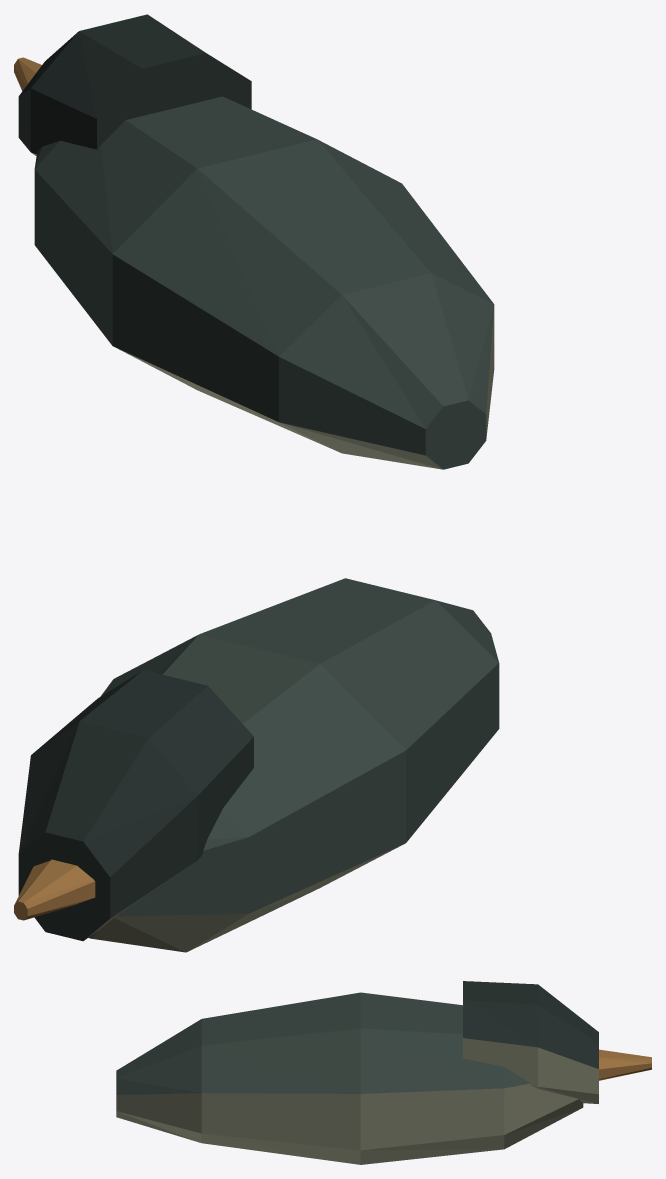
File: bird-body.obj
3 renders of one model, top to bottom at view 1: azimuth 30°, elevation 25°; view 2: azimuth 150°, elevation 25°; view 3: azimuth 270°, elevation 25°, orthographic. The views are drawn at different scales.
Parts seen in each view (by area): view 1: Bird; view 2: Bird; view 3: Bird.
Boxes of the visible parts, bbox=[...] form: Bird: bbox=[14, 14, 494, 469]; Bird: bbox=[14, 578, 499, 952]; Bird: bbox=[116, 981, 651, 1164].
Bounding box in the file's own units: 0.159 × 0.1333 × 0.493.
